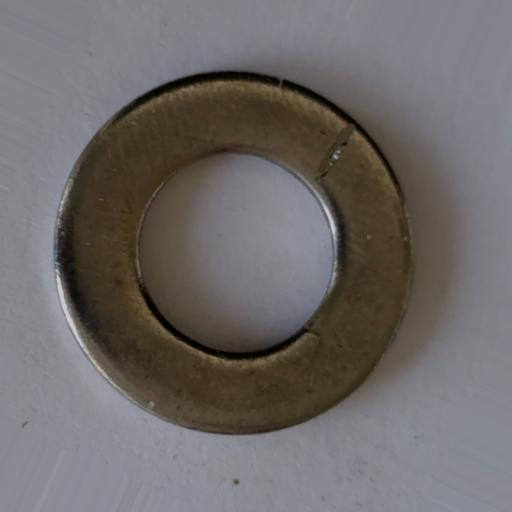scratch: (314, 125, 354, 181)
